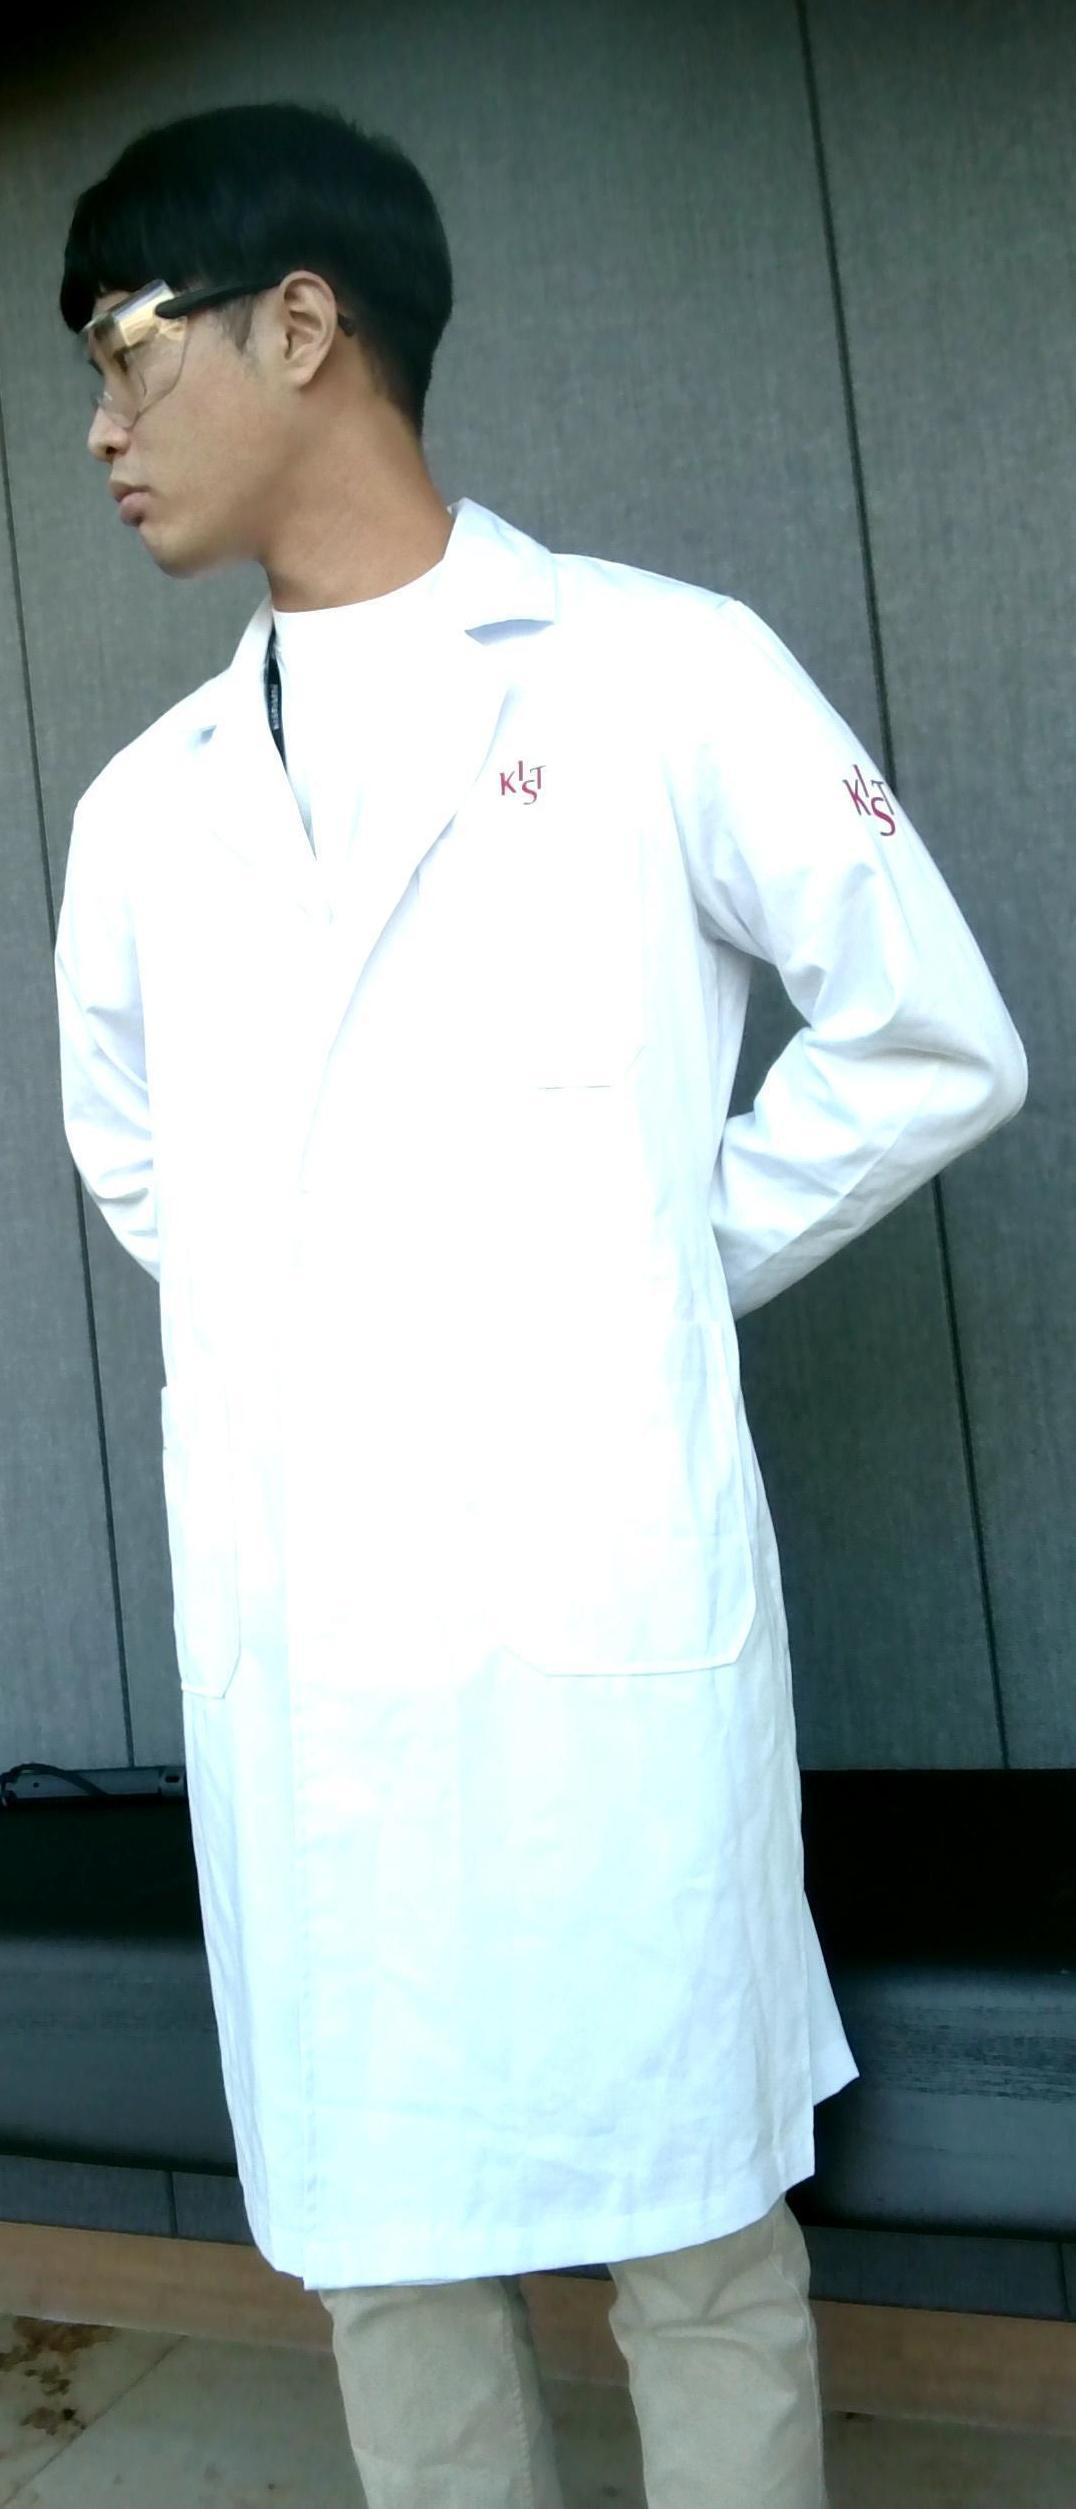lab_coat: (26, 642, 1034, 2163)
